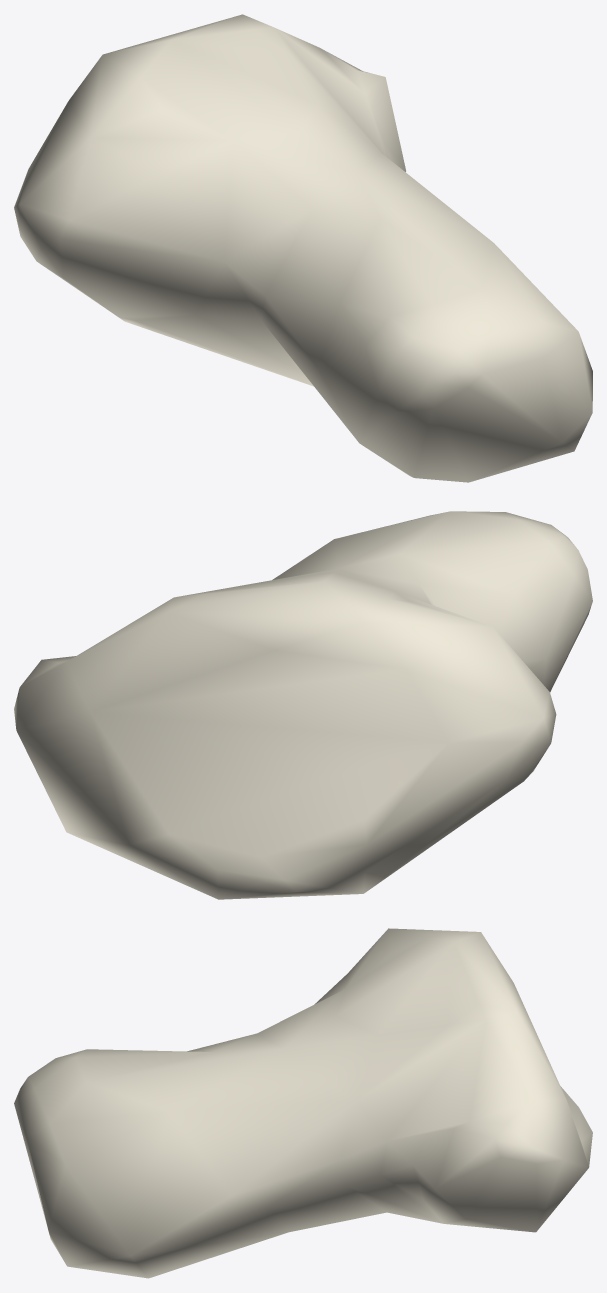
3 renders of one model, top to bottom at view 1: azimuth 30°, elevation 25°; view 2: azimuth 150°, elevation 25°; view 3: azimuth 270°, elevation 25°, orthographic. The views are drawn at different scales.
Visible parts, largest first — view 1: ZA_0c8d46736cd0d0c4; view 2: ZA_0c8d46736cd0d0c4; view 3: ZA_0c8d46736cd0d0c4.
Boxes of the visible parts, left/top/right/bottom form: ZA_0c8d46736cd0d0c4: left=14, top=14, right=592, bottom=482; ZA_0c8d46736cd0d0c4: left=14, top=511, right=592, bottom=899; ZA_0c8d46736cd0d0c4: left=14, top=928, right=592, bottom=1278.
Bounding box in the file's own units: 0.00789 × 0.00563 × 0.0109.
